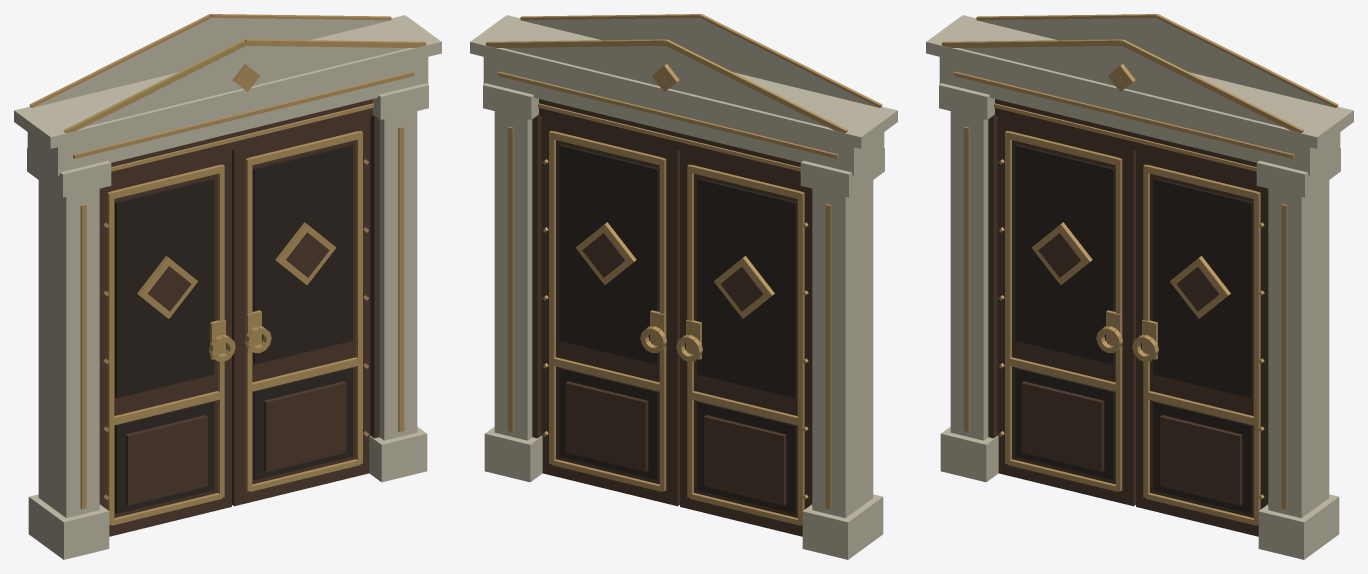
File: Entrance_PalaceDoubleDoor.fbx
The picture shows the model from 3 angles, left to right: view 1: azimuth 30°, elevation 25°; view 2: azimuth 150°, elevation 25°; view 3: azimuth 330°, elevation 25°; orthographic projection.
Visible parts, largest first — view 1: M_Central_Limestone, Walnut_1, RecessedWalnut_1, RecessedWalnut, Walnut_2, AgedBrass, AgedBrass_1, AgedBrass_2, Walnut; view 2: M_Central_Limestone, Walnut_1, RecessedWalnut_1, RecessedWalnut, Walnut_2, AgedBrass, AgedBrass_1, AgedBrass_2, Walnut; view 3: M_Central_Limestone, Walnut_2, RecessedWalnut, RecessedWalnut_1, Walnut_1, AgedBrass, AgedBrass_2, AgedBrass_1, Walnut.
Boxes of the visible parts, <box> form: M_Central_Limestone: <box>14,15,441,559</box>; Walnut_1: <box>232,117,370,506</box>; RecessedWalnut_1: <box>115,178,214,513</box>; RecessedWalnut: <box>253,144,352,480</box>; Walnut_2: <box>100,150,231,536</box>; AgedBrass: <box>29,14,426,509</box>; AgedBrass_1: <box>245,131,369,491</box>; AgedBrass_2: <box>103,164,235,525</box>; Walnut: <box>99,99,379,504</box>; M_Central_Limestone: <box>470,15,897,559</box>; Walnut_1: <box>541,117,679,506</box>; RecessedWalnut_1: <box>697,178,796,513</box>; RecessedWalnut: <box>559,144,658,480</box>; Walnut_2: <box>680,150,811,536</box>; AgedBrass: <box>485,14,882,509</box>; AgedBrass_1: <box>542,131,666,491</box>; AgedBrass_2: <box>676,164,808,525</box>; Walnut: <box>532,99,812,504</box>; M_Central_Limestone: <box>926,15,1353,559</box>; Walnut_2: <box>997,117,1135,506</box>; RecessedWalnut: <box>1153,178,1252,513</box>; RecessedWalnut_1: <box>1015,144,1114,480</box>; Walnut_1: <box>1136,150,1267,536</box>; AgedBrass: <box>941,14,1338,509</box>; AgedBrass_2: <box>998,131,1122,491</box>; AgedBrass_1: <box>1132,164,1264,525</box>; Walnut: <box>988,99,1268,504</box>.
Size of the model in its own units: 283 by 329 by 49.5.
